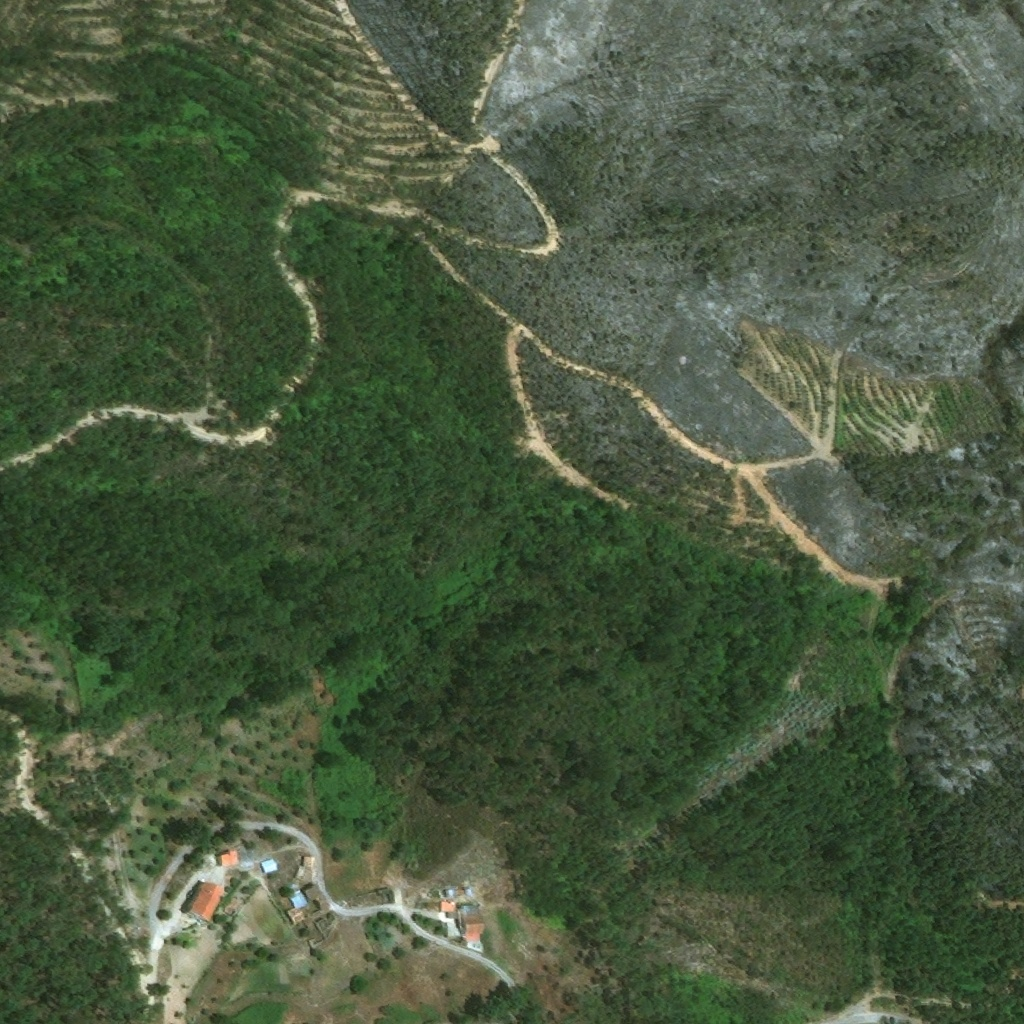0 no-damage: (182, 882, 226, 923), (461, 905, 486, 943), (314, 893, 334, 914), (288, 889, 308, 909), (304, 882, 323, 900), (287, 907, 306, 924), (221, 850, 240, 866), (262, 859, 277, 873), (447, 889, 464, 900), (441, 901, 456, 913), (304, 857, 315, 867), (297, 866, 304, 876), (465, 888, 472, 895)
4 un-classified: (275, 894, 292, 911)
